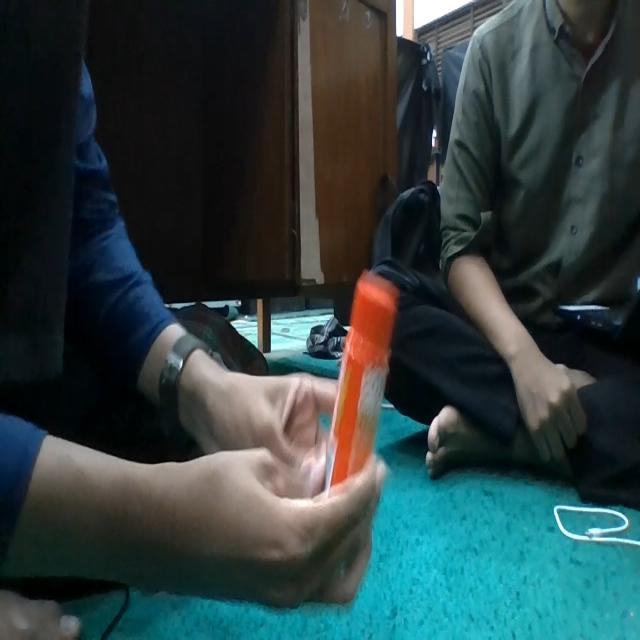Boncabe: (326, 272, 398, 493)
